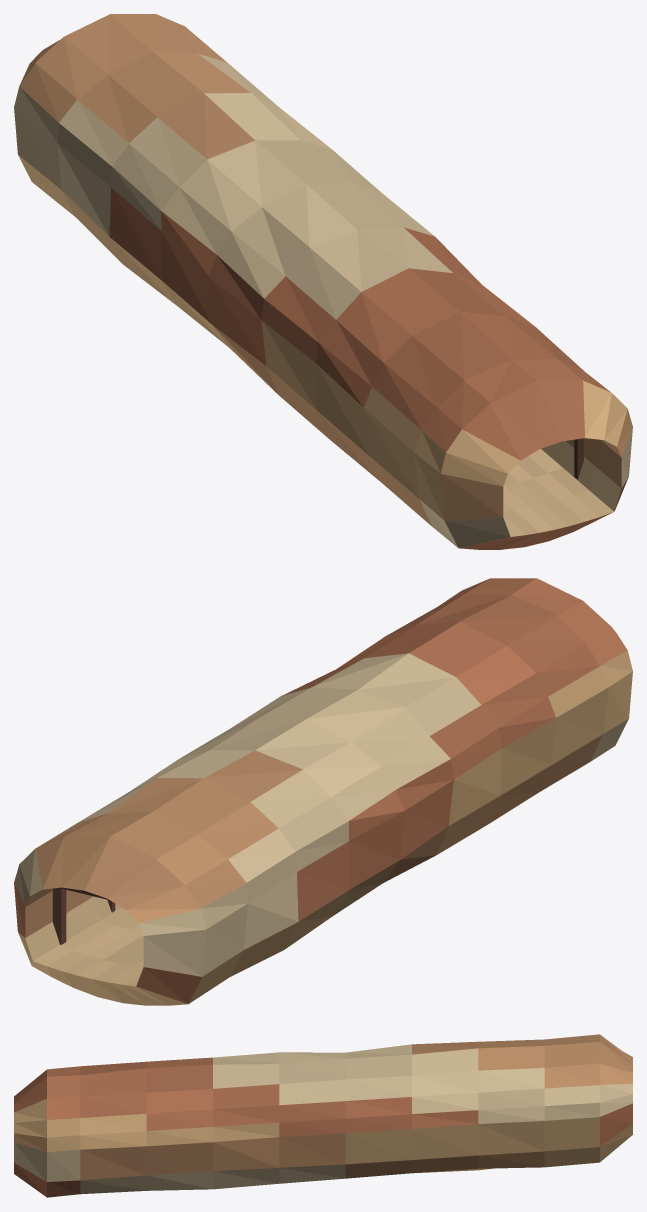
File: adit_mouth.glb
3 renders of one model, top to bottom at view 1: azimuth 30°, elevation 25°; view 2: azimuth 150°, elevation 25°; view 3: azimuth 270°, elevation 25°, orthographic. The views are drawn at different scales.
Visible parts, largest first — view 1: adit_mouth; view 2: adit_mouth; view 3: adit_mouth.
Boxes of the visible parts, x1,y1,x2,y2 form: adit_mouth: (14, 14, 632, 549); adit_mouth: (14, 578, 632, 1005); adit_mouth: (14, 1034, 632, 1197).
Size of the model in its own units: 13.25 by 14.07 by 56.
